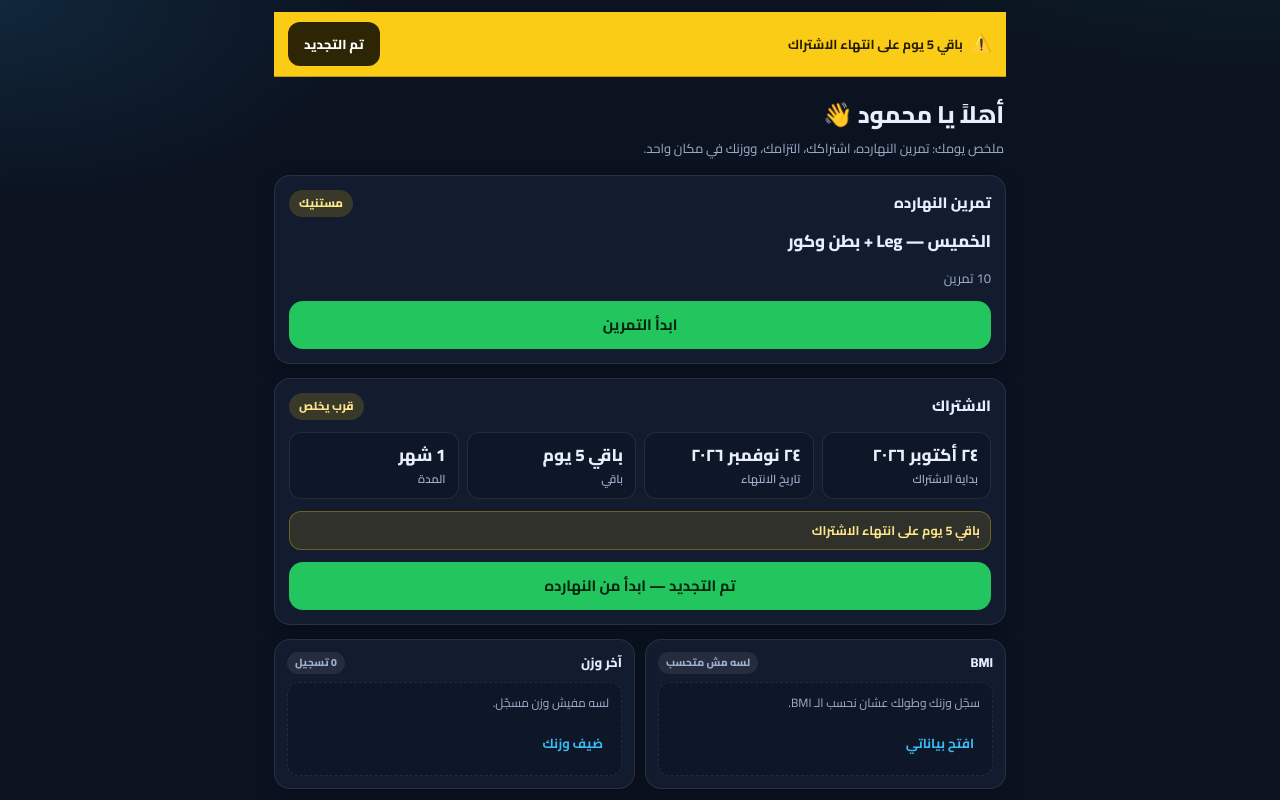
Test: HomePage › subscription card › restarts the subscription from today when renewing
Expected: the message "⚠️ باقي 5 يوم على انتهاء الاشتراك تم التجديد" is shown, [274,12,1006,77]
Click the button with test id "home-renew-button". click: coordinates (640, 586)
box: [289,562,991,610]
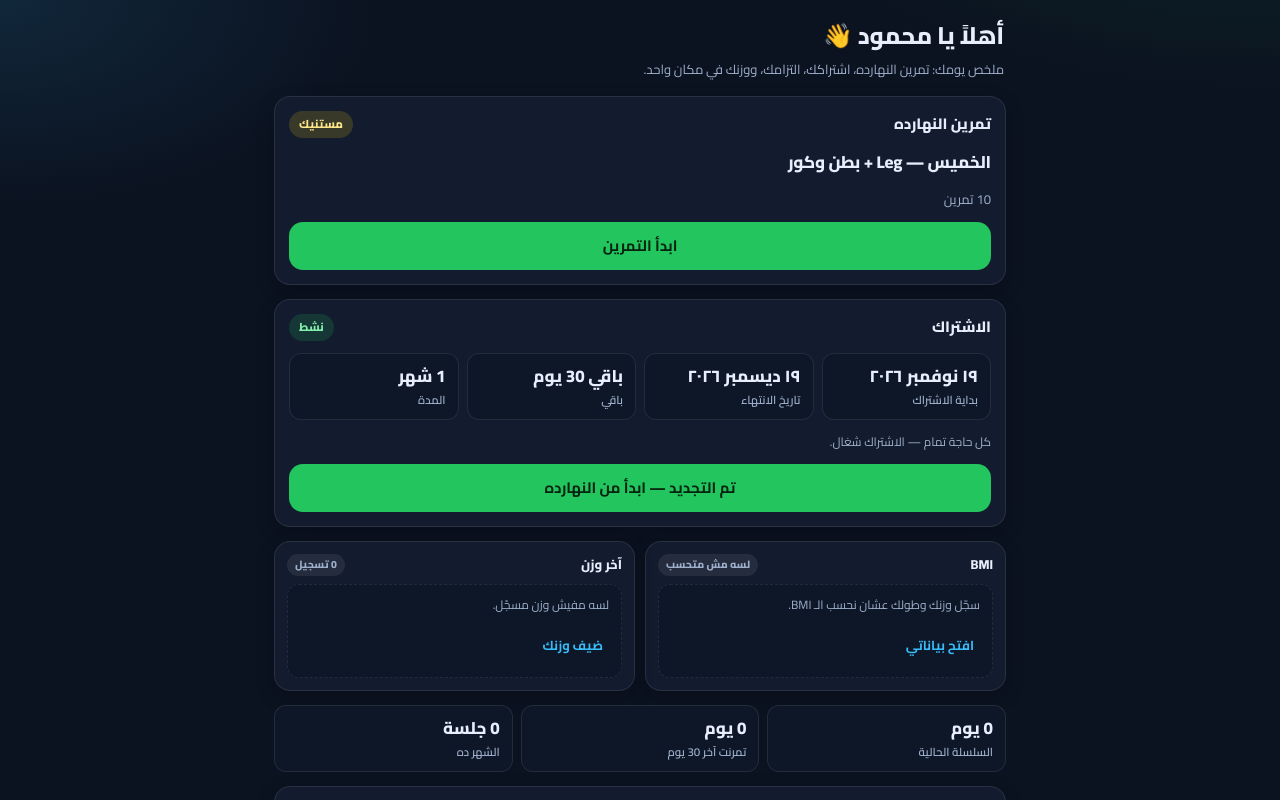
Expected: the text with test id "home-days-remaining" reads "باقي 30 يوم", [533,360,623,392]
Expected: the text with test id "home-subscription-badge" reads "نشط", [299,316,324,338]
Expected: the message with test id "renewal-banner" is gone
